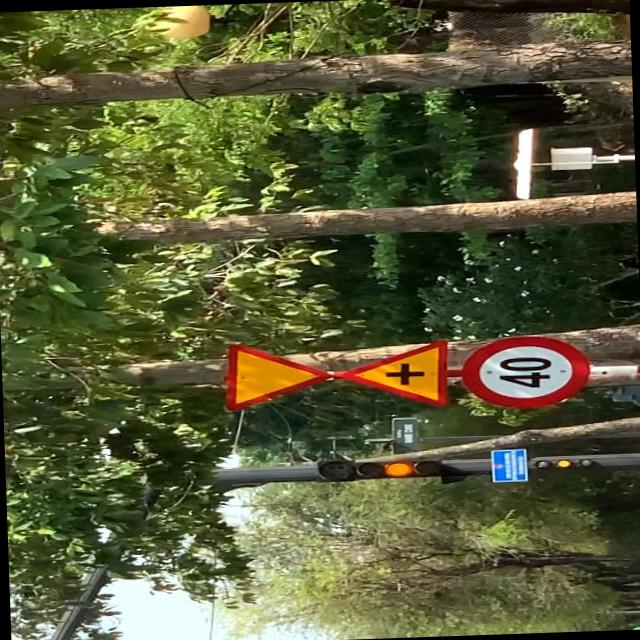P-127: (462, 333, 590, 408)
W-205a: (330, 340, 450, 410)
W-208: (224, 338, 330, 413)
